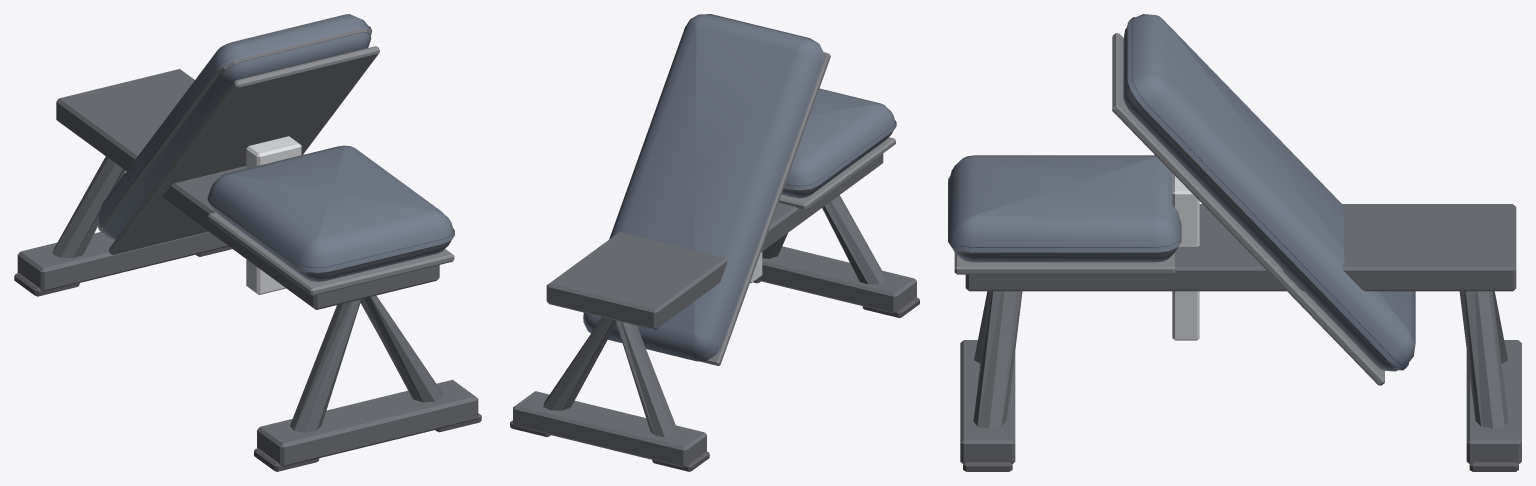
File: incline.glb
3 views of the same model, side by side, from view 1: azimuth 30°, elevation 25°; view 2: azimuth 150°, elevation 25°; view 3: azimuth 270°, elevation 25° (orthographic). The views are drawn at different scales.
Parts seen in each view (by area): view 1: adjustable-bench-incline; view 2: adjustable-bench-incline; view 3: adjustable-bench-incline.
Boxes of the visible parts, bbox=[...] form: adjustable-bench-incline: bbox=[14, 14, 481, 471]; adjustable-bench-incline: bbox=[510, 14, 919, 471]; adjustable-bench-incline: bbox=[948, 14, 1521, 471].
Bounding box in the file's own units: 0.46 × 0.7498 × 1.04.
